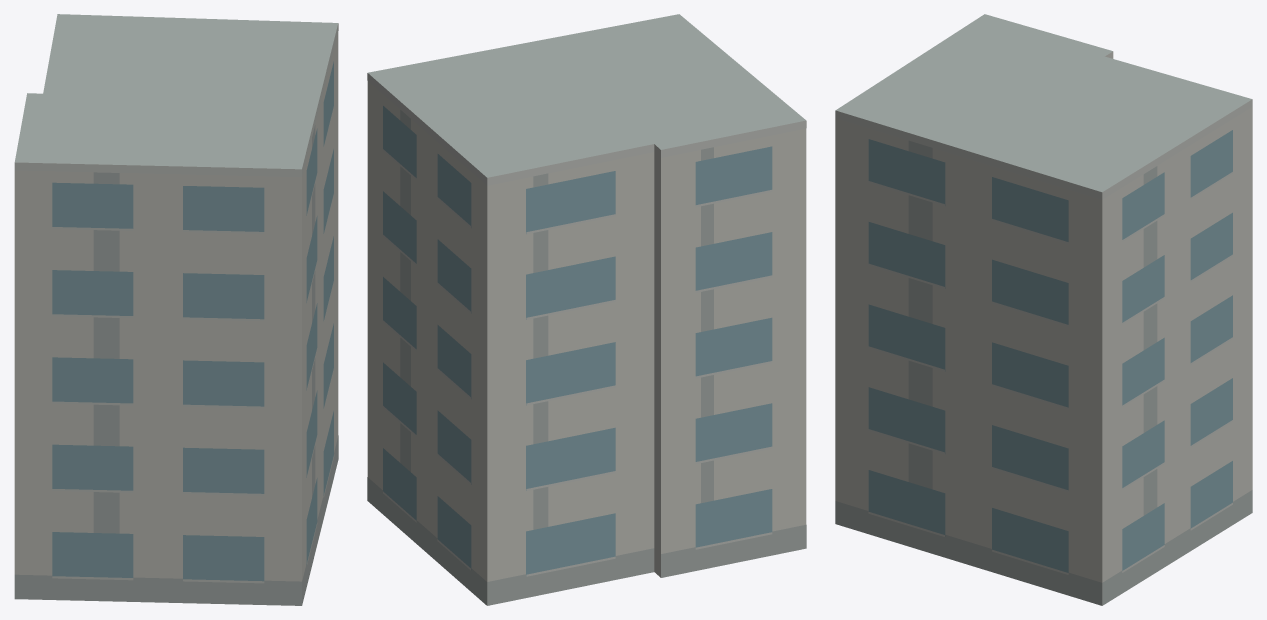
Rendered from survey-upis-32803912.glb.
3 renders of one model, left to right at view 1: azimuth 30°, elevation 25°; view 2: azimuth 150°, elevation 25°; view 3: azimuth 270°, elevation 25°, orthographic. The views are drawn at different scales.
Visible parts, largest first — view 1: survey-upis-32803912.tmp; view 2: survey-upis-32803912.tmp; view 3: survey-upis-32803912.tmp.
Part boxes in pixels (x1,y1,x2,y2): survey-upis-32803912.tmp: (14, 14, 338, 605); survey-upis-32803912.tmp: (367, 14, 806, 605); survey-upis-32803912.tmp: (835, 14, 1252, 605).
Bounding box in the file's own units: 12.21 × 13.2 × 12.08.
